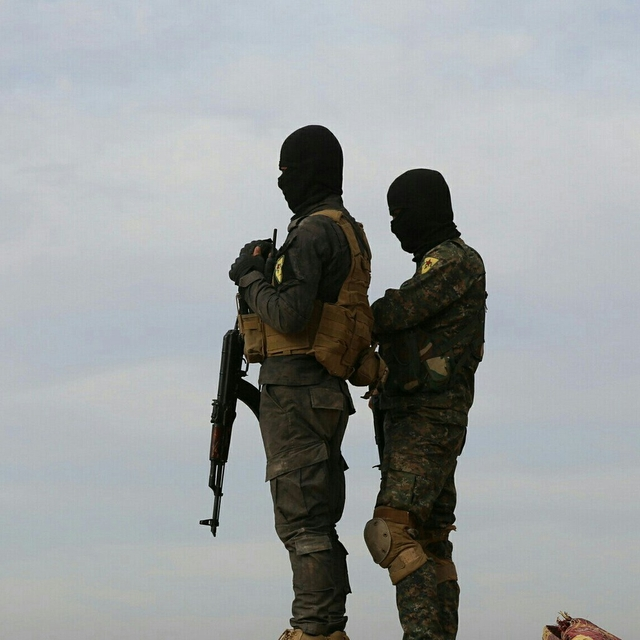AK47: (194, 329, 258, 541)
